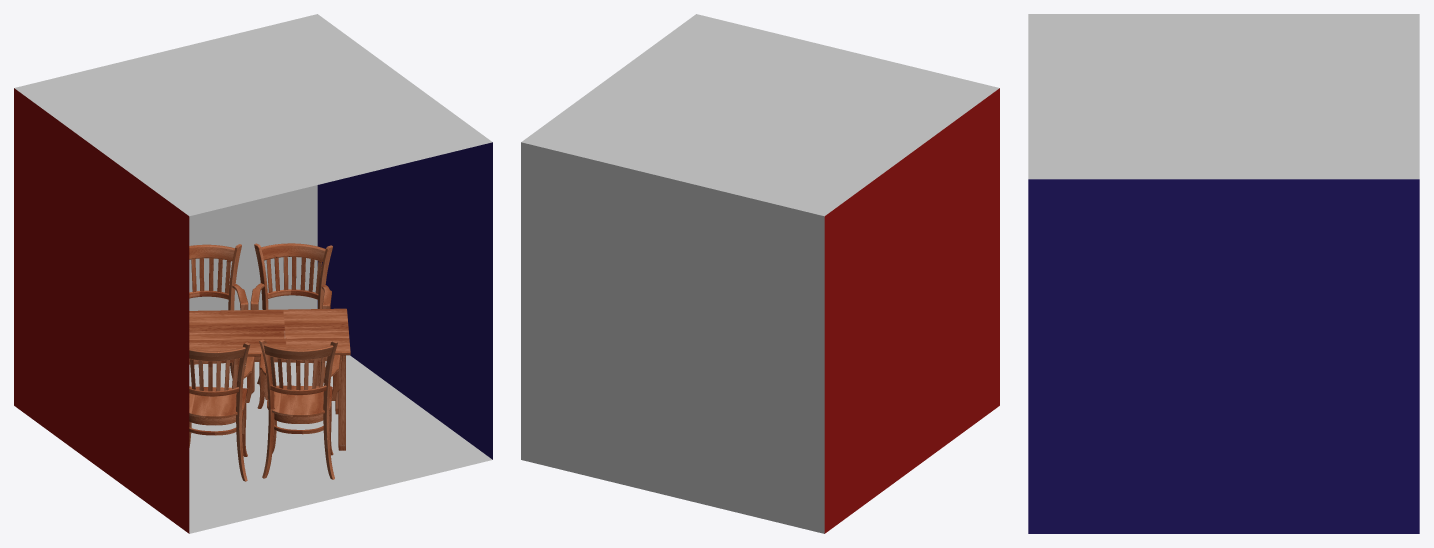
Rendered from cornell-box.obj.
The picture shows the model from 3 angles, left to right: view 1: azimuth 30°, elevation 25°; view 2: azimuth 150°, elevation 25°; view 3: azimuth 270°, elevation 25°; orthographic projection. The views are drawn at different scales.
Visible parts, largest first — view 1: LeftWall, Ceiling, RightWall, Floor, Table, BackWall; view 2: BackWall, LeftWall, Ceiling; view 3: RightWall, Ceiling.
Boxes of the visible parts, bbox=[...] form: LeftWall: bbox=[14, 88, 189, 533]; Ceiling: bbox=[14, 14, 492, 216]; RightWall: bbox=[317, 142, 492, 459]; Floor: bbox=[189, 355, 492, 533]; Table: bbox=[189, 243, 350, 481]; BackWall: bbox=[189, 185, 317, 310]; BackWall: bbox=[521, 142, 824, 533]; LeftWall: bbox=[824, 88, 999, 533]; Ceiling: bbox=[521, 14, 999, 216]; RightWall: bbox=[1028, 179, 1419, 533]; Ceiling: bbox=[1028, 14, 1419, 179].
Size of the model in its own units: 2 by 2 by 2.
Materials: 7 (1 with a texture image).
